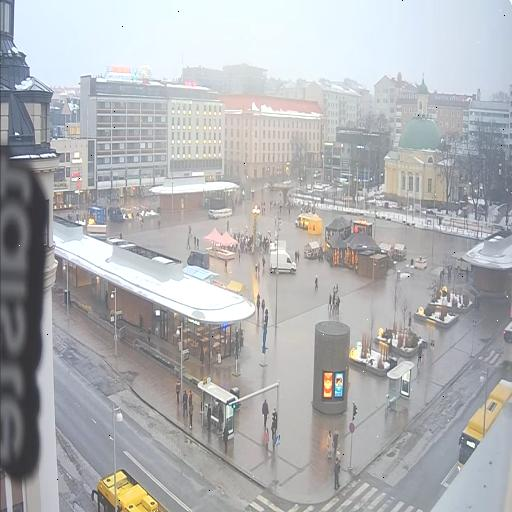Bus: (458, 380, 512, 471), (92, 469, 167, 511), (503, 321, 512, 363)
